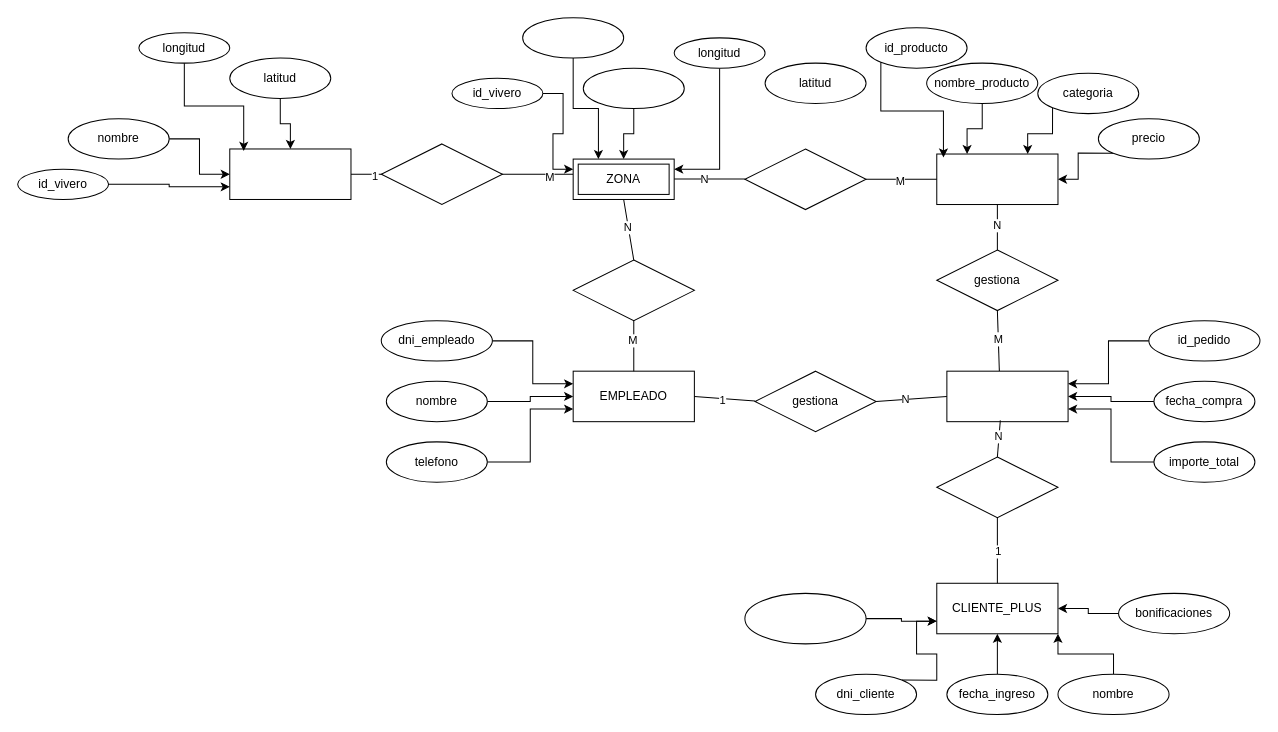
The diagram is 1278 pixels wide and 732 high, and some of its shapes have lost their labels. Here are the shapes that lost their labels. From the top down, the box of each, then its label:
(522, 17, 624, 58): id_zona
(582, 67, 684, 109): nombre_zona
(229, 148, 351, 199): VIVERO
(380, 143, 502, 205): Tiene
(744, 148, 866, 210): Almacena
(936, 153, 1058, 205): PRODUCTO
(572, 259, 694, 321): trabaja
(946, 370, 1068, 422): PEDIDO
(936, 456, 1058, 518): realiza
(744, 592, 866, 644): volumen_mensual
